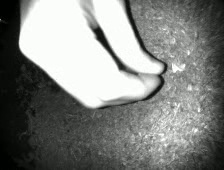corn: (171, 60, 179, 74), (178, 62, 188, 72)
